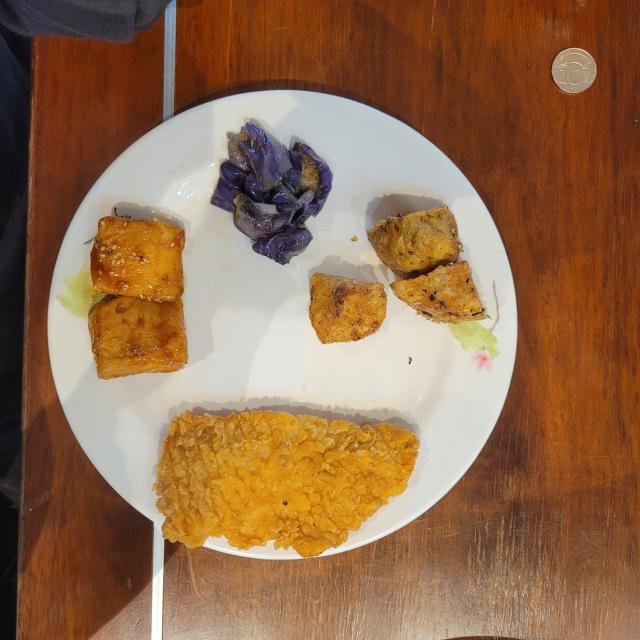coin: (551, 48, 596, 94)
creamy tofu: (89, 216, 188, 379)
fried chicken cutlet: (155, 410, 419, 558)
fried potato: (368, 205, 486, 324), (309, 274, 386, 344)
